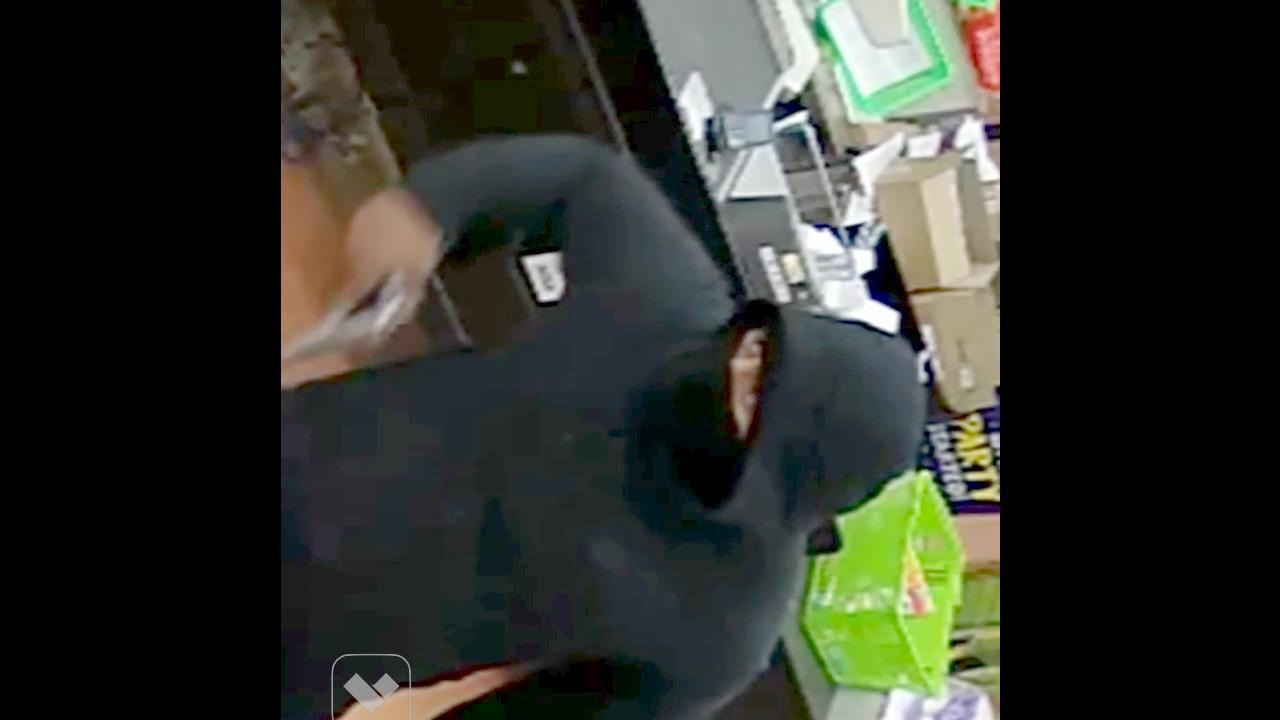gun: (280, 264, 432, 371)
